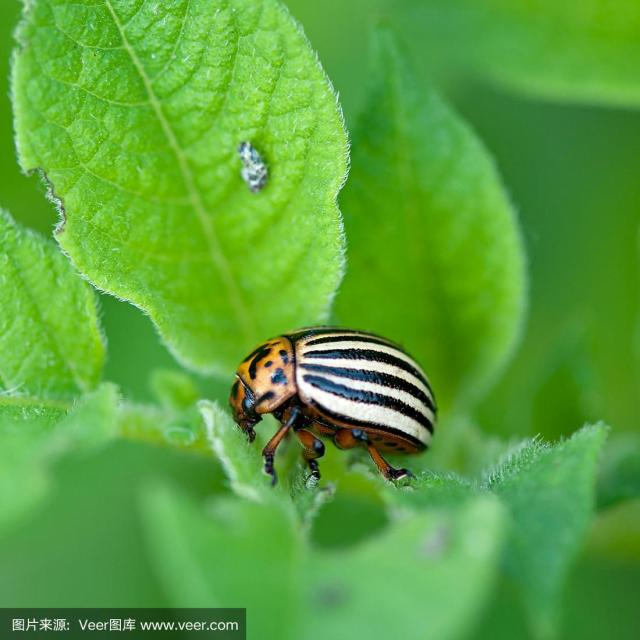ShuCaiHuaBanChong-Grown-: (233, 297, 492, 501)
